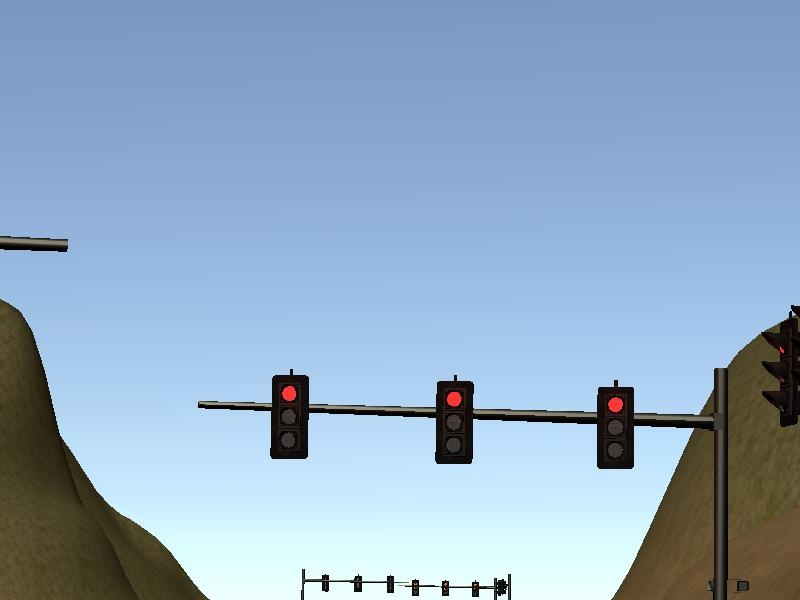red: (269, 375, 311, 461), (435, 380, 474, 465), (597, 386, 635, 470)
